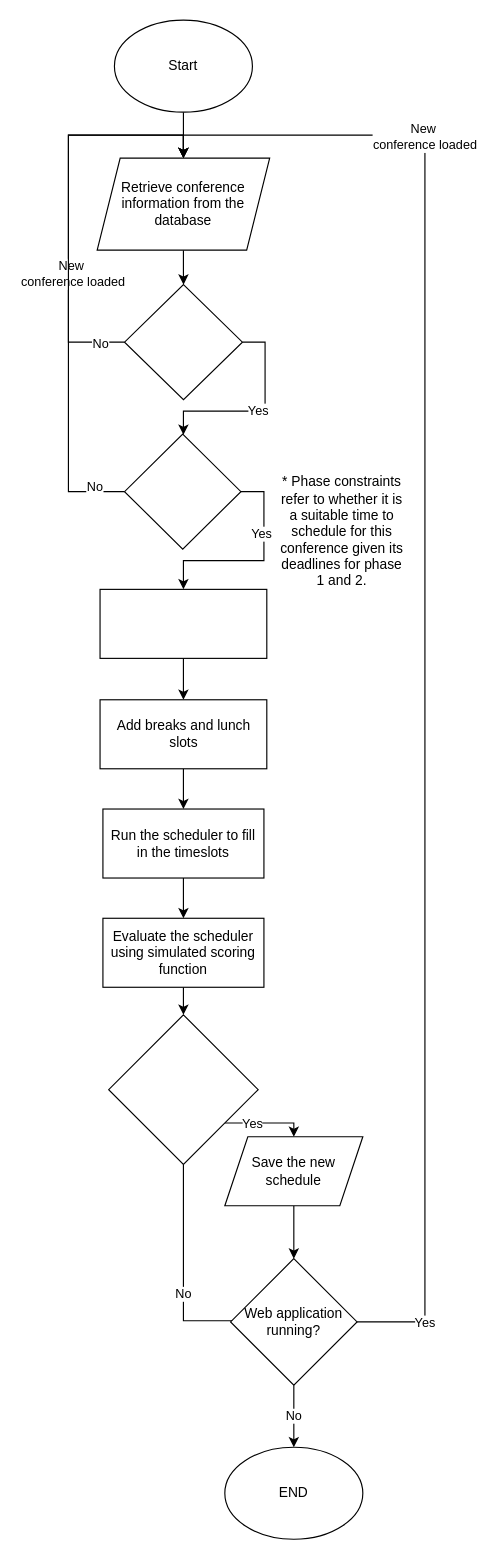
Some shapes in this 496 by 1559 pixel diagram are drawn without their labels. Here are the shapes that lost their labels. From the top down, the centre of each, then its label:
At [182,341]: "Has this conference been edited?".
At [182,491]: "Does this conference satisfy phase constraints?".
At [183,623]: "Create timeslots to structure each day".
At [183,1089]: "Better performing compared to what currently exists?".
